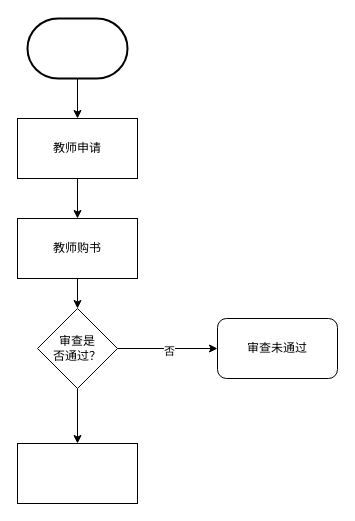
Image size: 355x521. Some labels were removed from this diagram. The shapes that lost their labels are listed below. From the top down, each one's centre as x and y in pixels, then its label:
At point (77, 48): "购书计划".
At point (77, 473): "审查通过".
